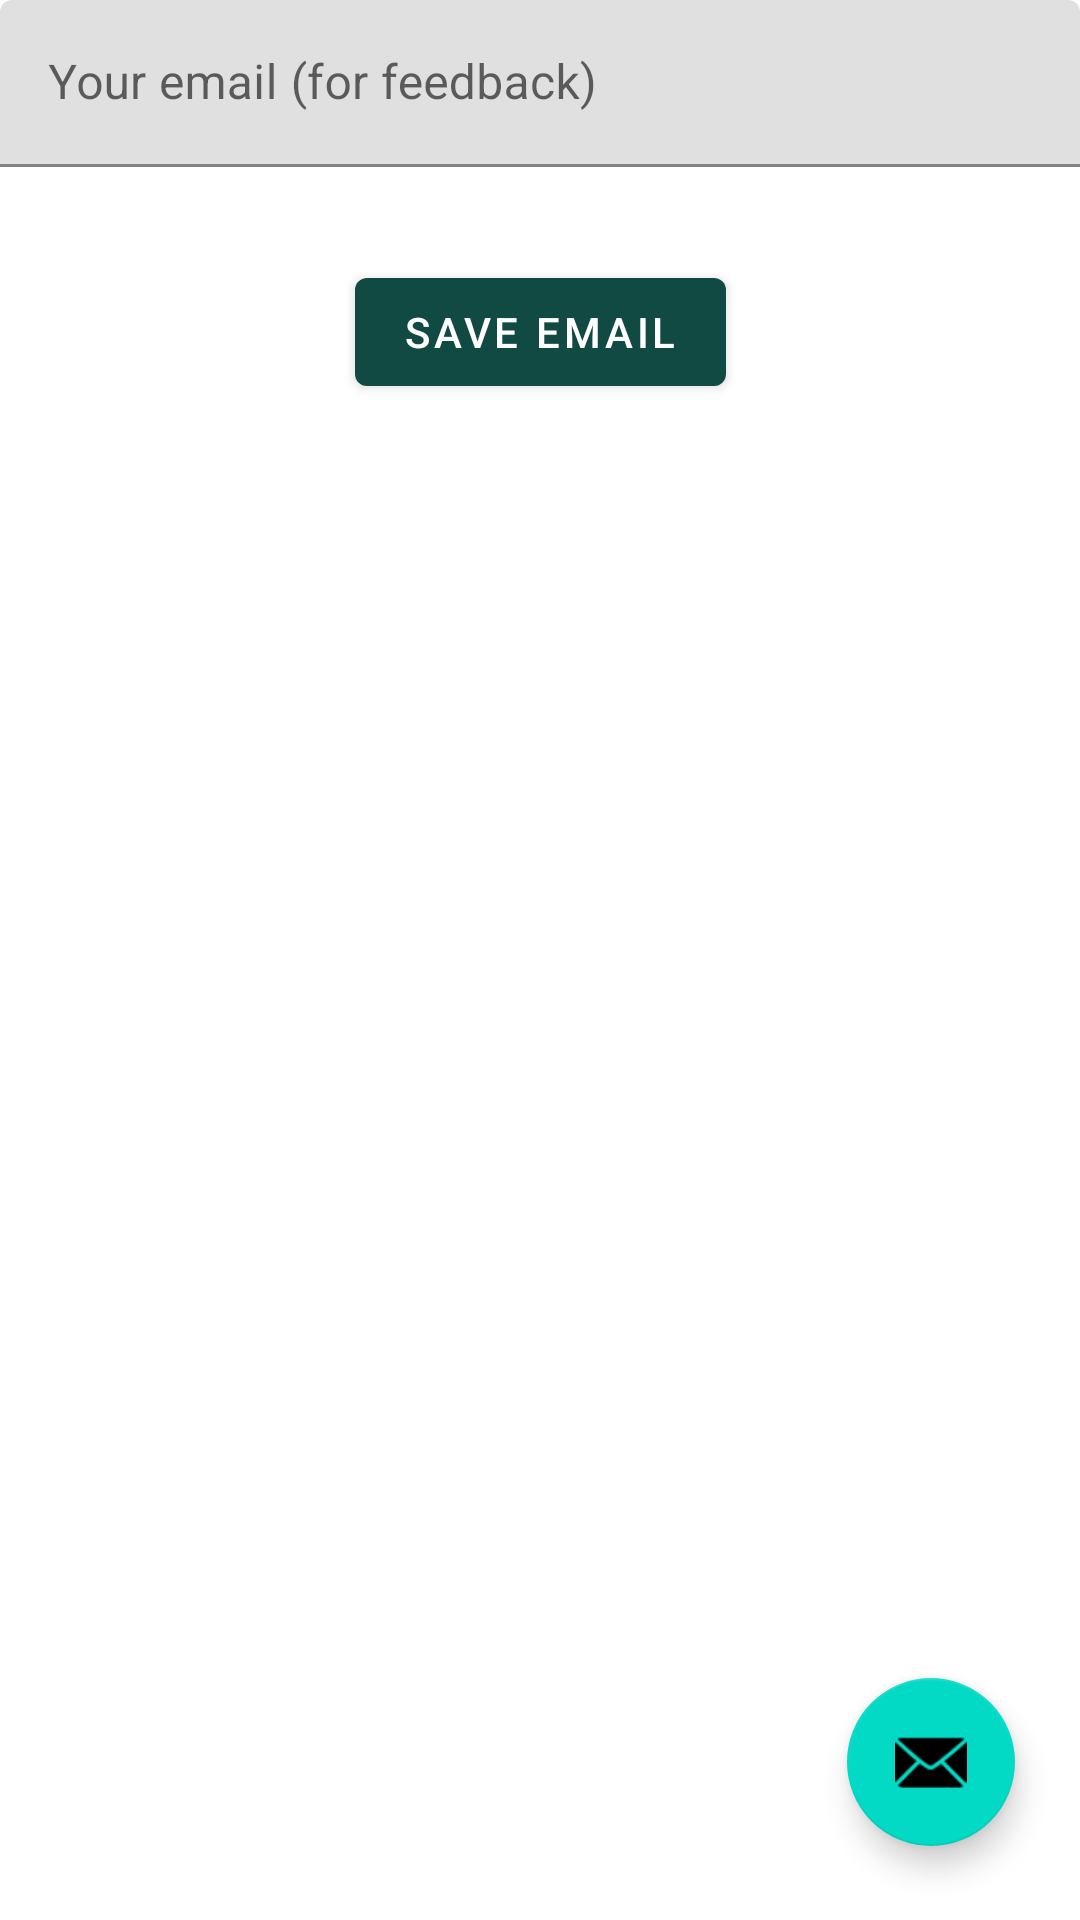

Screen size 1080x1920. Icon name, then its center in pixels as point (x, y):
email: point (931, 1762)
